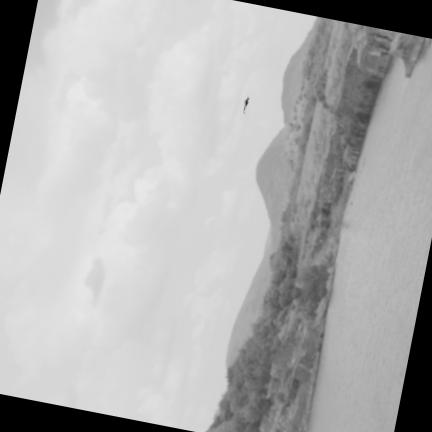Shahed: (243, 97, 249, 112)
